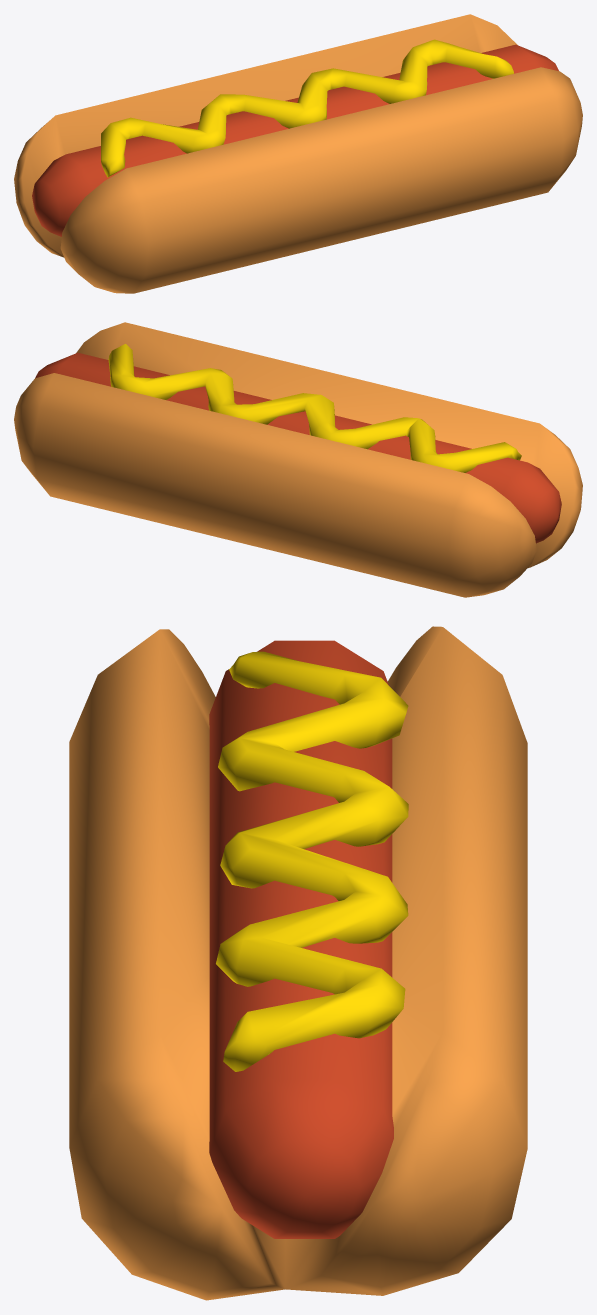
The model's file is Hot Dog.fbx.
3 renders of one model, top to bottom at view 1: azimuth 30°, elevation 25°; view 2: azimuth 150°, elevation 25°; view 3: azimuth 270°, elevation 25°, orthographic. The views are drawn at different scales.
Parts seen in each view (by area): view 1: Bun, Mustard, Hot_Dog; view 2: Bun, Mustard, Hot_Dog; view 3: Bun, Hot_Dog, Mustard.
Boxes of the visible parts, x1,y1,x2,y2 form: Bun: [14, 14, 582, 293]; Mustard: [101, 39, 513, 177]; Hot_Dog: [32, 44, 558, 236]; Bun: [14, 322, 582, 597]; Mustard: [108, 344, 521, 472]; Hot_Dog: [35, 352, 561, 543]; Bun: [69, 626, 527, 1300]; Hot_Dog: [209, 640, 393, 1238]; Mustard: [216, 651, 408, 1071].
Bounding box in the file's own units: 20.85 × 5.1 × 7.89.
